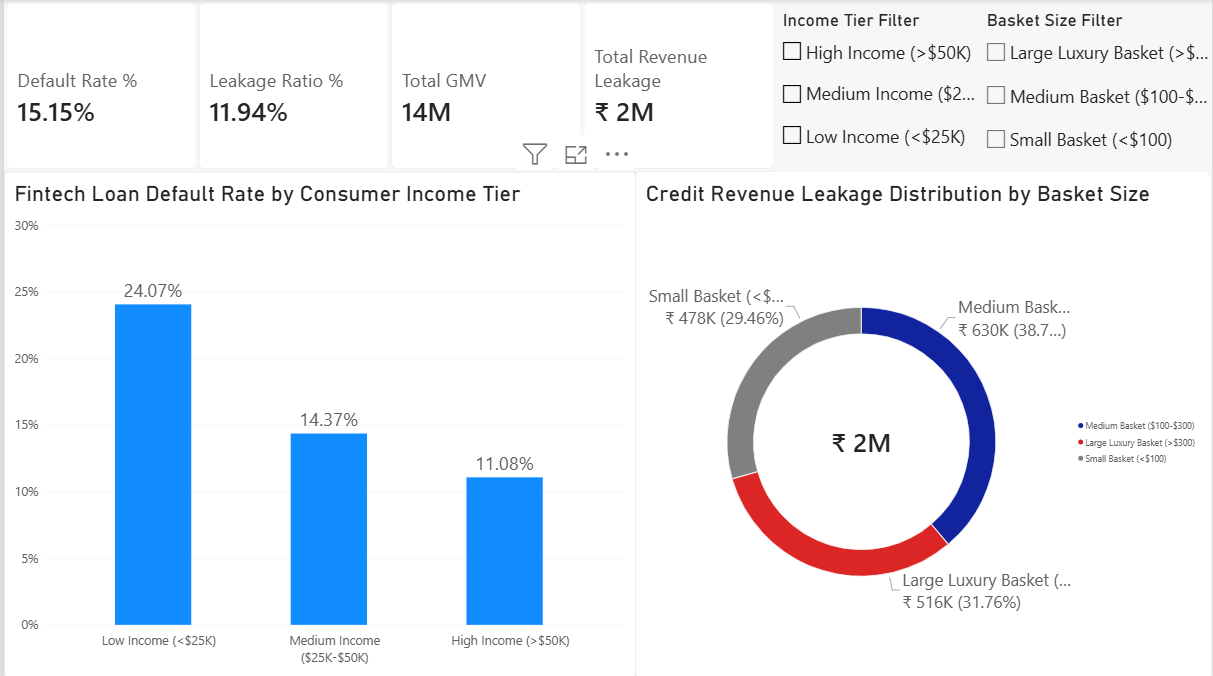

What the dashboard file says about the page in this screenshot:
{"tool":"powerbi","page":{"name":"Page 1","canvas":[1920,1080],"ordinal":0},"visuals":[{"type":"cardVisual","fields":{"Data":["_KPI Measures.Default Rate %","_KPI Measures.Leakage Ratio %","_KPI Measures.Total GMV","_KPI Measures.Total Revenue Leakage"]},"box":[0,0,1231.1,274.4],"z":0},{"type":"clusteredColumnChart","title":"Fintech Loan Default Rate by Consumer Income Tier","fields":{"Category":["embedded_finance_risk_matrix.Income Tier"],"Y":["_KPI Measures.Default Rate %"]},"box":[0,274.4,1004.5,806.4],"z":1000},{"type":"donutChart","title":"Credit Revenue Leakage Distribution by Basket Size","fields":{"Category":["embedded_finance_risk_matrix.Basket Size"],"Y":["_KPI Measures.Total Revenue Leakage"]},"box":[1004.5,274.4,916.2,806.4],"z":2000},{"type":"slicer","title":"Income Filter","fields":{"Values":["embedded_finance_risk_matrix.Income Tier"]},"box":[1231.1,16.7,324.5,257],"z":3000},{"type":"slicer","fields":{"Values":["embedded_finance_risk_matrix.Basket Size"]},"box":[1555.6,16.7,365,255.3],"z":4000}]}

Visuals, with their boxes in screenshot pixels (x1, y1, x2, y2), scaled from the page's 1920x1080 canvas onto the 1213x676 screenshot:
cardVisual - _KPI Measures.Default Rate % x _KPI Measures.Leakage Ratio %: box=[0, 0, 778, 172]
"Fintech Loan Default Rate by Consumer Income Tier" clusteredColumnChart: box=[0, 172, 635, 675]
"Credit Revenue Leakage Distribution by Basket Size" donutChart: box=[635, 172, 1212, 675]
"Income Filter" slicer: box=[778, 10, 983, 171]
slicer - embedded_finance_risk_matrix.Basket Size: box=[983, 10, 1212, 170]
